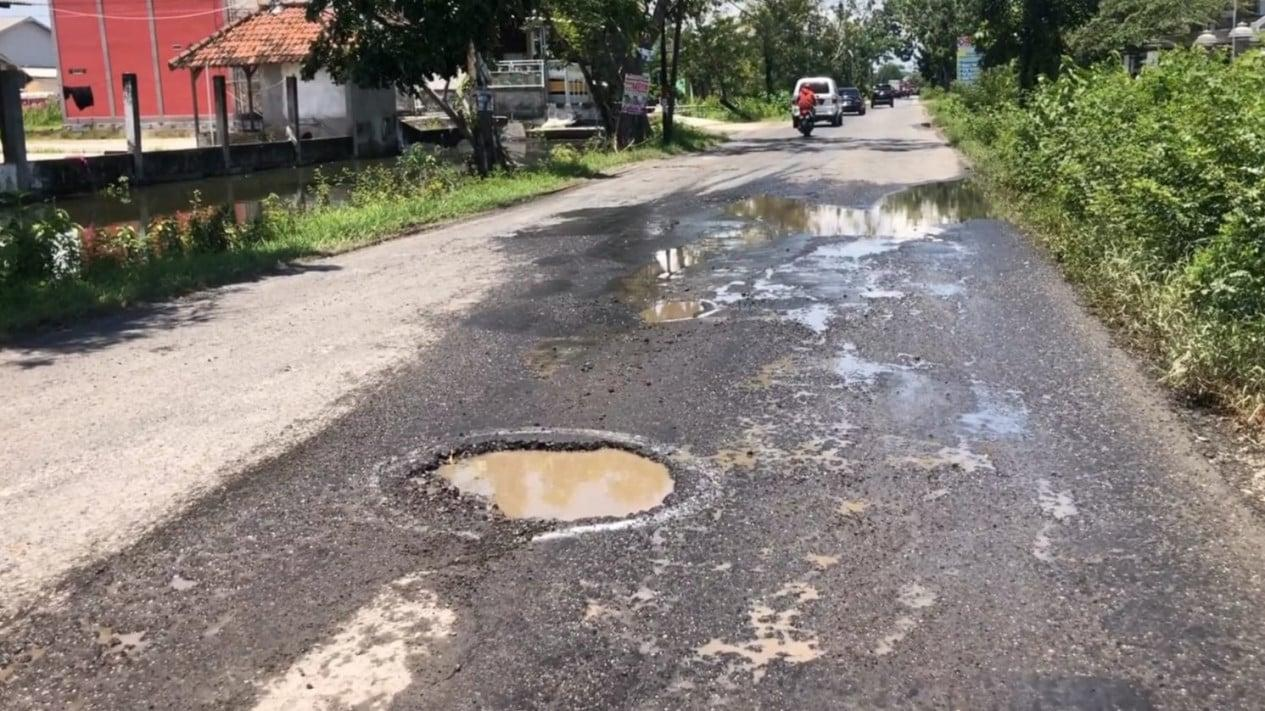Pothole: (409, 437, 687, 529), (726, 177, 990, 257), (709, 549, 830, 690), (727, 393, 852, 484), (585, 573, 666, 648), (623, 245, 707, 309), (959, 373, 1033, 437), (756, 349, 875, 388), (893, 435, 996, 474), (1035, 476, 1080, 561), (526, 336, 594, 378), (639, 295, 714, 327), (785, 303, 833, 341), (875, 615, 917, 655), (895, 577, 939, 611), (752, 266, 792, 302), (860, 271, 903, 299), (832, 494, 873, 518), (888, 351, 926, 374), (714, 281, 750, 303), (929, 280, 966, 296), (714, 267, 747, 278)
